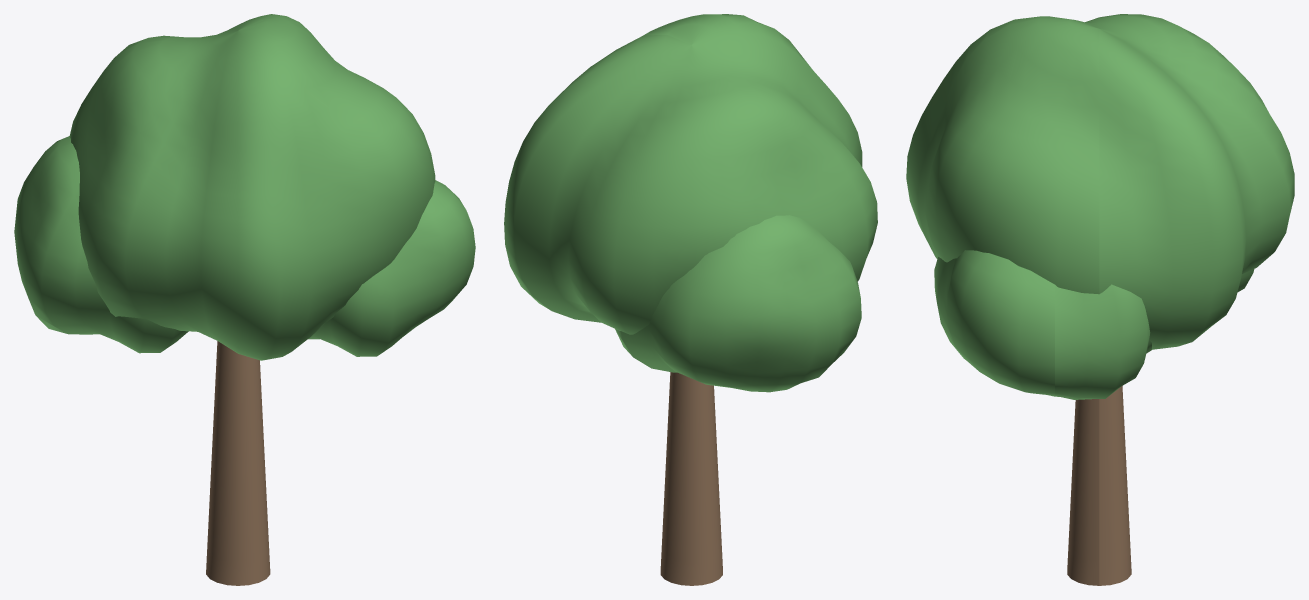
Rendered from tree.glb.
3 renders of one model, left to right at view 1: azimuth 30°, elevation 25°; view 2: azimuth 150°, elevation 25°; view 3: azimuth 270°, elevation 25°, orthographic. The views are drawn at different scales.
Visible parts, largest first — view 1: tree; view 2: tree; view 3: tree.
Boxes of the visible parts, x1,y1,x2,y2 form: tree: (14, 14, 475, 585); tree: (504, 14, 877, 585); tree: (906, 14, 1294, 585).
Bounding box in the file's own units: 3 × 4.11 × 2.62.
